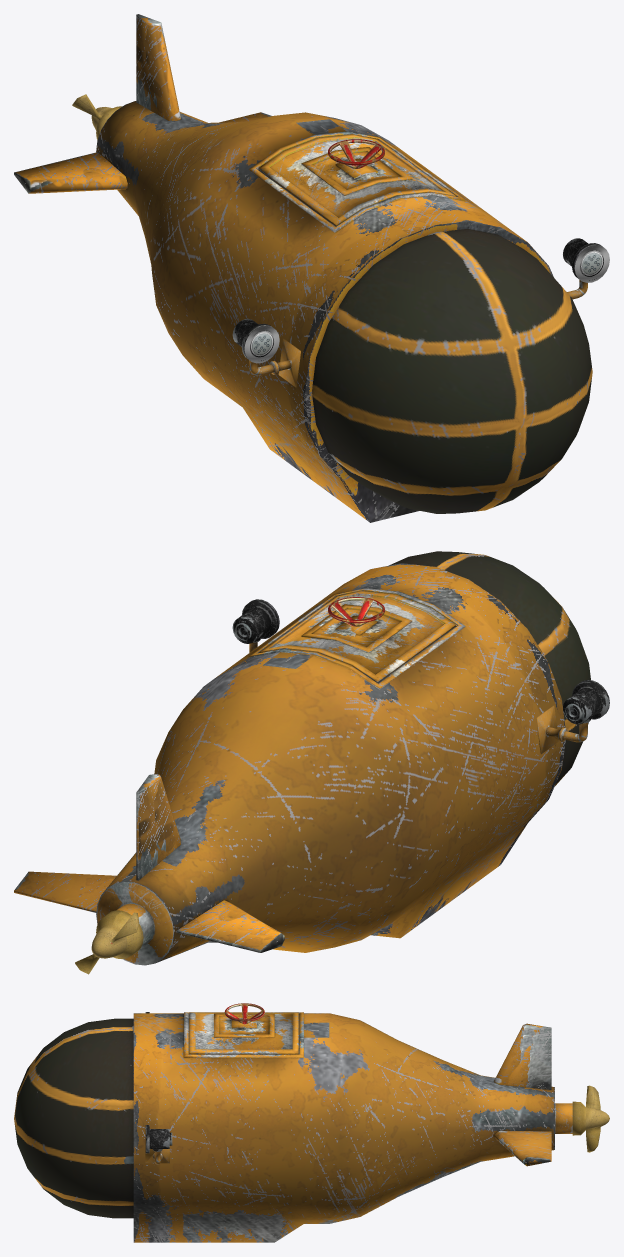
The model's file is onderzeeer kan open.fbx.
The picture shows the model from 3 angles, top to bottom: view 1: azimuth 30°, elevation 25°; view 2: azimuth 150°, elevation 25°; view 3: azimuth 270°, elevation 25°; orthographic projection. The views are drawn at different scales.
Visible parts, largest first — view 1: Onderzeeer normaal, Onderzeeer normaal.001; view 2: Onderzeeer normaal, Onderzeeer normaal.001; view 3: Onderzeeer normaal, Onderzeeer normaal.001.
Part boxes in pixels (box(x1,y1,x2,y2)): Onderzeeer normaal: box(14, 14, 609, 522); Onderzeeer normaal.001: box(301, 139, 412, 195); Onderzeeer normaal: box(14, 551, 609, 974); Onderzeeer normaal.001: box(301, 597, 412, 652); Onderzeeer normaal: box(14, 1012, 609, 1242); Onderzeeer normaal.001: box(214, 1003, 274, 1037).
Bounding box in the file's own units: 2818 × 2195 × 5680.
